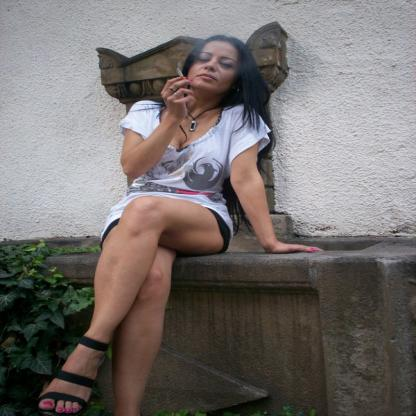smoking: (176, 67, 188, 83)
